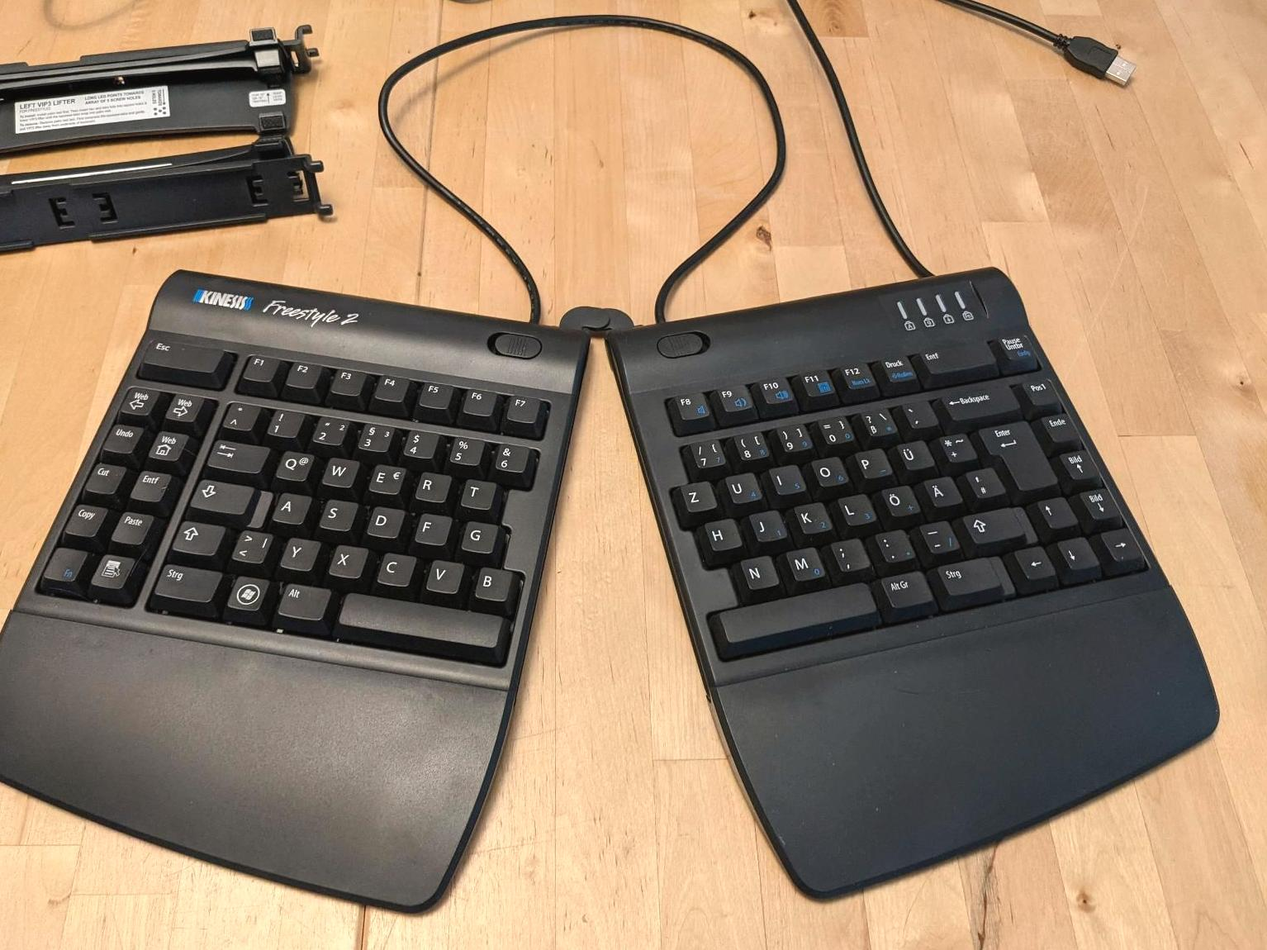0: (812, 412, 856, 445)
1: (263, 406, 303, 437)
2: (309, 413, 349, 444)
3: (354, 420, 394, 451)
4: (400, 427, 438, 457)
5: (446, 435, 484, 464)
6: (495, 443, 533, 473)
7: (681, 436, 728, 468)
8: (732, 429, 771, 461)
9: (773, 420, 814, 454)
a: (269, 489, 310, 523)
accent: (896, 394, 938, 430)
ae: (918, 473, 962, 506)
alt-left: (273, 581, 330, 620)
altgr-right: (874, 568, 933, 608)
b: (477, 565, 517, 601)
c: (373, 549, 415, 584)
caret: (220, 399, 259, 430)
comma: (827, 535, 870, 572)
d: (363, 503, 402, 537)
del: (935, 378, 1020, 420)
e: (366, 462, 406, 493)
enter: (976, 418, 1056, 490)
f: (412, 511, 451, 544)
g: (458, 518, 497, 552)
h: (700, 515, 743, 551)
hash: (961, 464, 1004, 496)
i: (766, 461, 805, 494)
j: (747, 507, 786, 539)
k: (790, 499, 833, 533)
keyboard: (32, 347, 546, 678), (657, 347, 1154, 675)
l: (835, 491, 876, 525)
less: (229, 527, 273, 563)
m: (783, 544, 827, 580)
minus: (915, 517, 959, 553)
n: (738, 552, 780, 589)
o: (808, 454, 848, 487)
oe: (876, 482, 921, 517)
p: (847, 445, 891, 478)
plus: (934, 430, 977, 463)
point: (870, 527, 915, 562)
q: (273, 448, 313, 479)
r: (413, 468, 450, 501)
s: (316, 496, 356, 530)
shift-left: (167, 519, 224, 554)
shift-lock: (186, 477, 255, 515)
shift-right: (956, 504, 1031, 544)
space: (709, 579, 879, 648), (335, 590, 505, 651)
ss: (855, 405, 899, 438)
strg-left: (147, 562, 222, 602)
strg-right: (928, 553, 1008, 599)
t: (458, 476, 495, 508)
tab: (203, 437, 268, 472)
u: (722, 469, 762, 503)
ue: (889, 437, 935, 470)
v: (423, 557, 463, 593)
w: (320, 454, 358, 485)
x: (325, 542, 367, 576)
y: (278, 534, 318, 569)
z: (672, 478, 717, 511)
